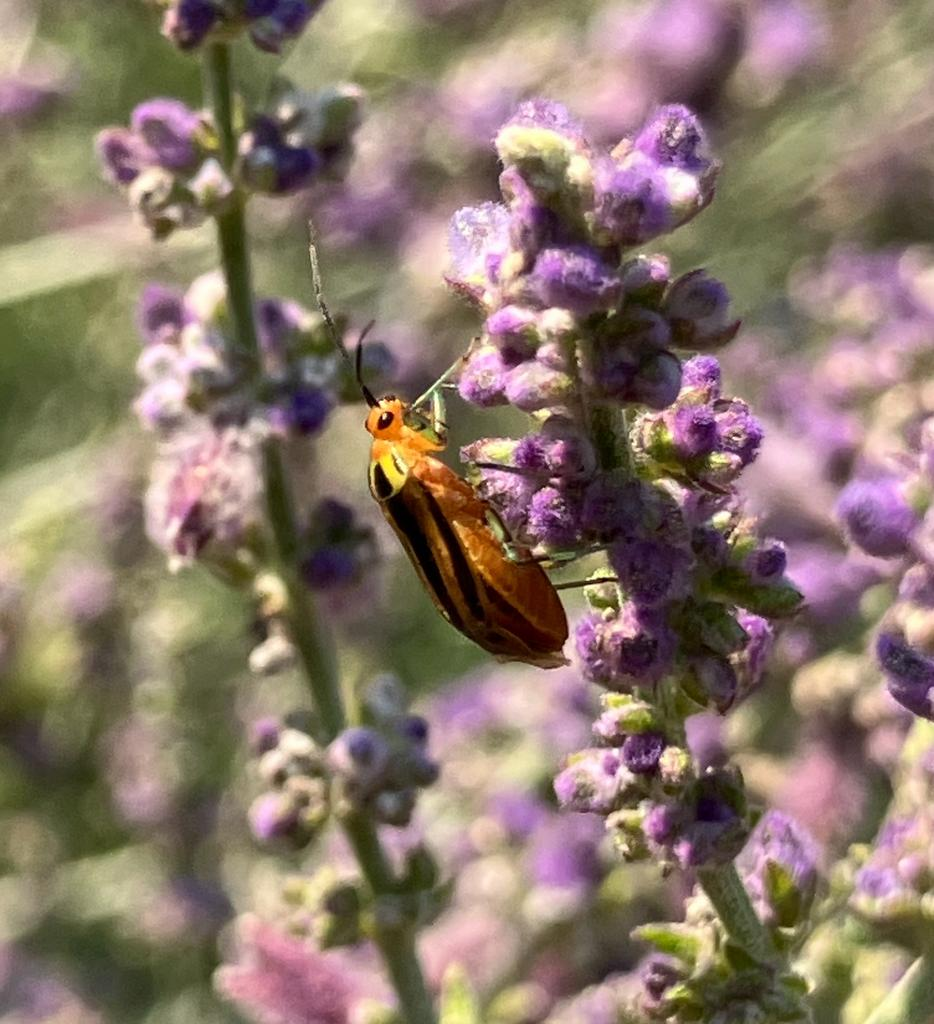plant_bugs: (253, 211, 677, 713)
